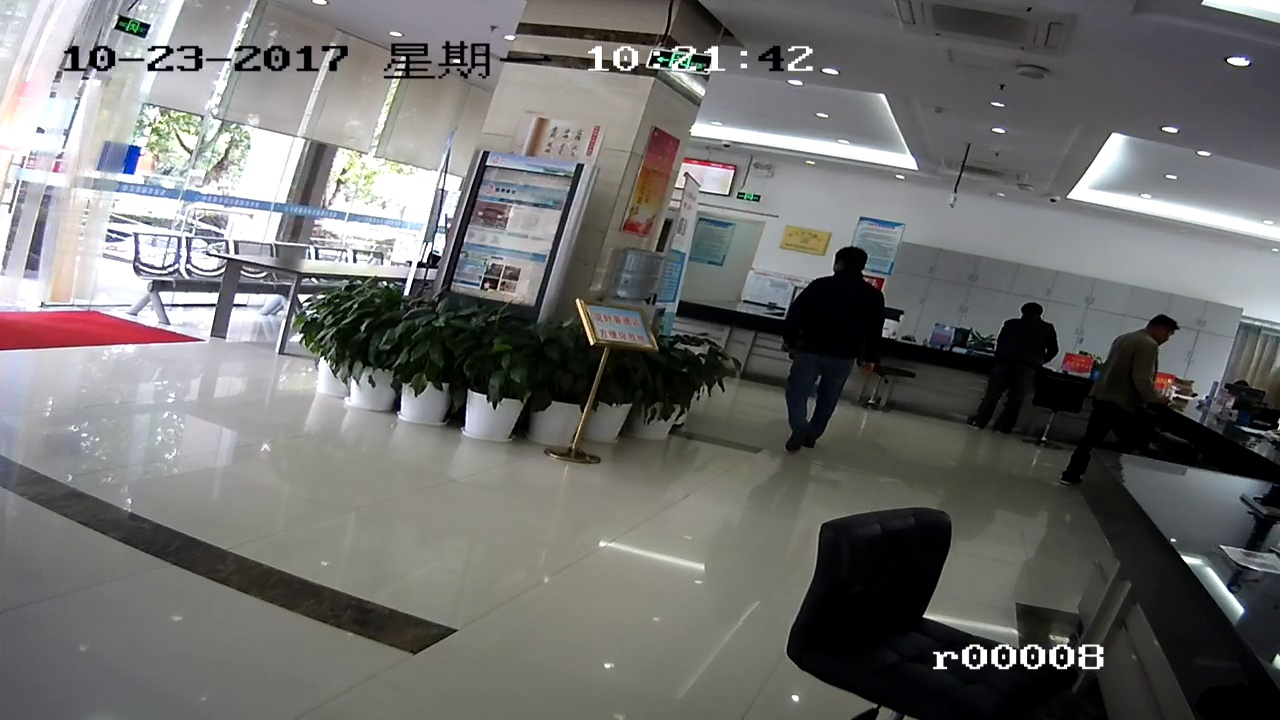billboard: (584, 300, 661, 348), (696, 216, 731, 270), (784, 222, 831, 255)
chair: (787, 492, 1073, 717)
person: (771, 241, 880, 450), (1091, 302, 1171, 446), (986, 294, 1050, 448)
pot: (340, 280, 407, 401), (408, 294, 460, 436), (473, 314, 524, 444)
